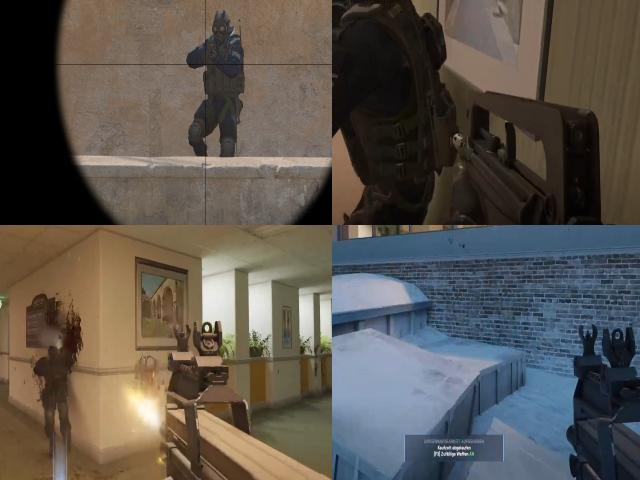CT: (332, 0, 437, 225), (194, 9, 243, 155)
CT-Head: (36, 342, 75, 442), (332, 0, 378, 40), (212, 10, 230, 45)
